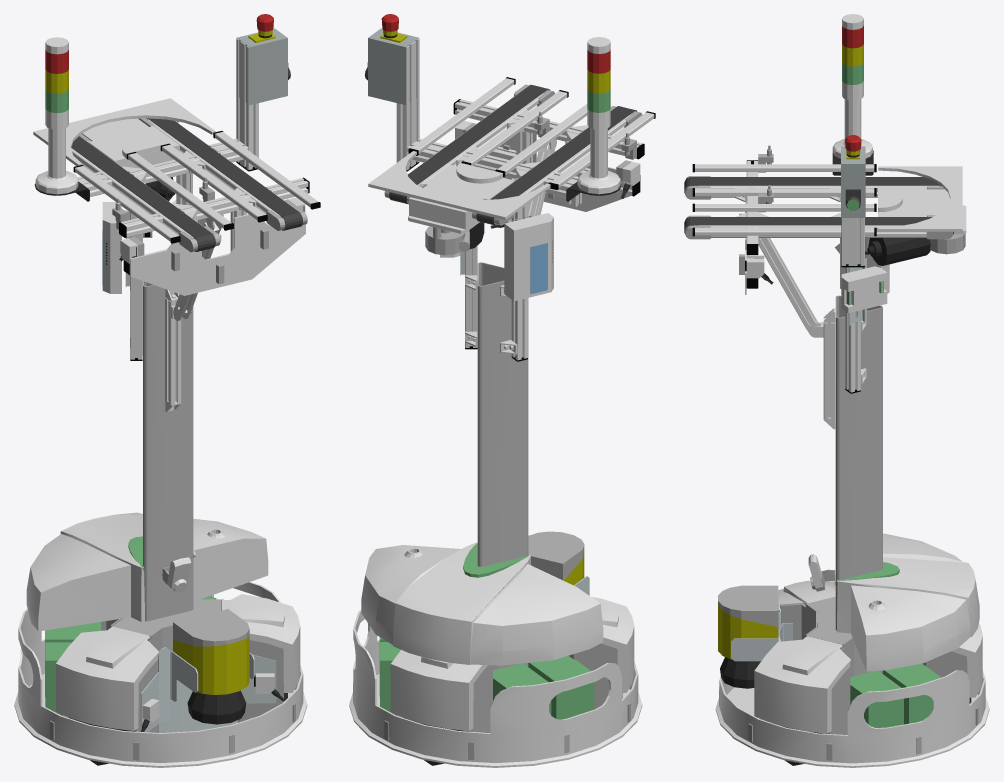
Rendered from robotino.fbx.
3 renders of one model, left to right at view 1: azimuth 30°, elevation 25°; view 2: azimuth 150°, elevation 25°; view 3: azimuth 270°, elevation 25°, orthographic. The views are drawn at different scales.
Visible parts, largest first — view 1: FbxMesh.010, FbxMesh.002, FbxMesh, FbxMesh.008, FbxMesh.060, FbxMesh.009, FbxMesh.012, FbxMesh.033, FbxMesh.082, FbxMesh.058, FbxMesh.054, FbxMesh.095 (+25 smaller); view 2: FbxMesh.010, FbxMesh, FbxMesh.002, FbxMesh.007, FbxMesh.051, FbxMesh.094, FbxMesh.095, FbxMesh.082, FbxMesh.058, FbxMesh.004, FbxMesh.077, FbxMesh.031 (+22 smaller); view 3: FbxMesh.010, FbxMesh, FbxMesh.002, FbxMesh.009, FbxMesh.095, FbxMesh.005, FbxMesh.058, FbxMesh.034, FbxMesh.054, FbxMesh.029, FbxMesh.018, FbxMesh.094 (+23 smaller).
Boxes of the visible parts, <box> form: FbxMesh.010: <box>26,512,268,631</box>; FbxMesh.002: <box>143,281,193,621</box>; FbxMesh: <box>14,582,307,767</box>; FbxMesh.008: <box>56,626,158,730</box>; FbxMesh.060: <box>129,214,305,295</box>; FbxMesh.009: <box>221,594,300,692</box>; FbxMesh.012: <box>140,647,276,732</box>; FbxMesh.033: <box>173,636,249,694</box>; FbxMesh.082: <box>237,28,287,104</box>; FbxMesh.058: <box>148,118,302,230</box>; FbxMesh.054: <box>71,136,215,251</box>; FbxMesh.095: <box>33,98,215,165</box>; FbxMesh.010: <box>361,542,603,665</box>; FbxMesh: <box>349,609,642,767</box>; FbxMesh.002: <box>477,262,528,566</box>; FbxMesh.007: <box>390,650,487,731</box>; FbxMesh.051: <box>504,213,553,301</box>; FbxMesh.094: <box>408,164,514,233</box>; FbxMesh.095: <box>368,151,550,220</box>; FbxMesh.082: <box>368,28,418,105</box>; FbxMesh.058: <box>389,84,550,204</box>; FbxMesh.004: <box>469,643,617,732</box>; FbxMesh.077: <box>577,37,620,194</box>; FbxMesh.031: <box>528,656,594,719</box>; FbxMesh.010: <box>836,533,979,671</box>; FbxMesh: <box>715,670,989,767</box>; FbxMesh.002: <box>835,295,882,630</box>; FbxMesh.009: <box>754,636,850,733</box>; FbxMesh.095: <box>878,166,962,231</box>; FbxMesh.005: <box>828,637,967,734</box>; FbxMesh.058: <box>684,217,953,237</box>; FbxMesh.034: <box>718,585,778,626</box>; FbxMesh.054: <box>684,177,940,194</box>; FbxMesh.029: <box>850,671,903,727</box>; FbxMesh.018: <box>841,266,887,313</box>; FbxMesh.094: <box>878,187,966,234</box>.
Size of the model in its own units: 46.61 by 123 by 51.88.
